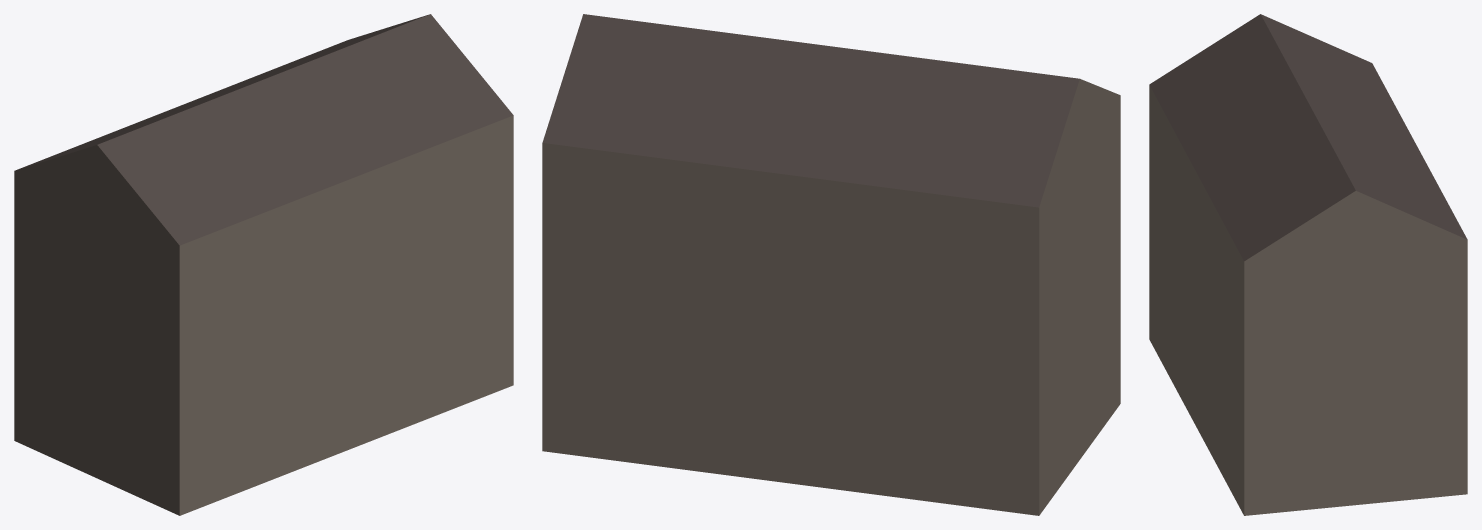
3 views of the same model, side by side, from view 1: azimuth 30°, elevation 25°; view 2: azimuth 150°, elevation 25°; view 3: azimuth 270°, elevation 25° (orthographic). The views are drawn at different scales.
Visible parts, largest first — view 1: HP-w1424106439; view 2: HP-w1424106439; view 3: HP-w1424106439.
Boxes of the visible parts, left/top/right/bottom form: HP-w1424106439: left=14, top=14, right=513, bottom=515; HP-w1424106439: left=542, top=14, right=1120, bottom=515; HP-w1424106439: left=1149, top=14, right=1467, bottom=515.
Size of the model in its own units: 10.03 by 7.42 by 6.81.
